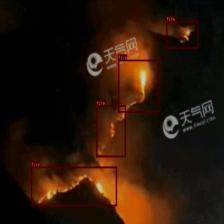fire: (31, 166, 117, 206), (118, 60, 158, 113), (96, 104, 126, 156), (166, 21, 198, 49)
